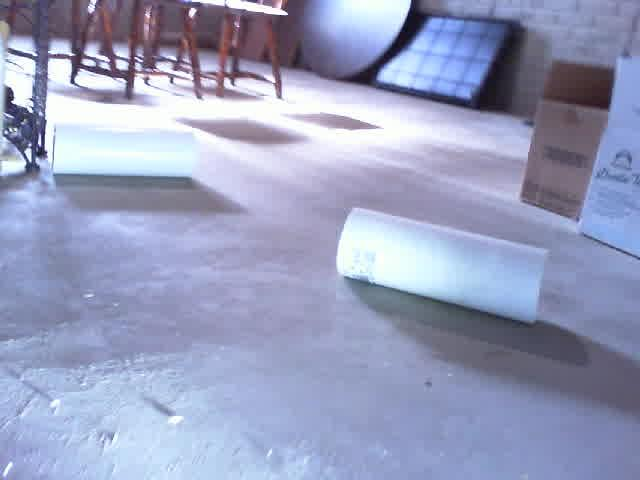coral: (331, 202, 554, 325), (38, 120, 200, 183)
